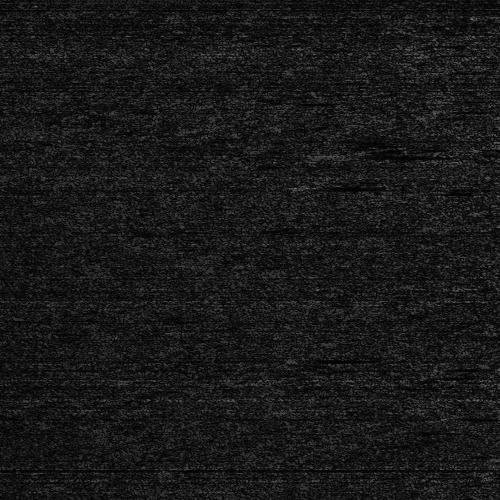object: (301, 149, 384, 160)
shadow: (343, 149, 451, 160)
